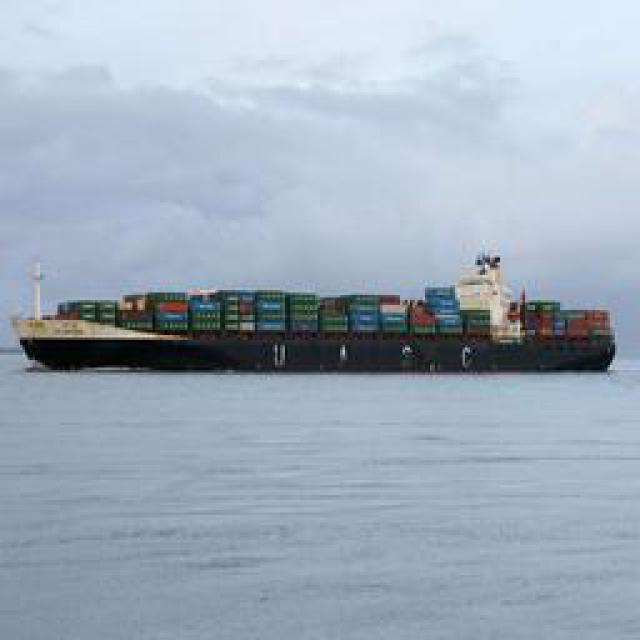Ship: (11, 255, 629, 375)
